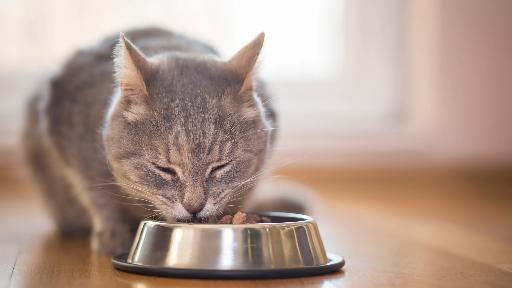cat_eating: (44, 28, 344, 278), (80, 187, 139, 252)
